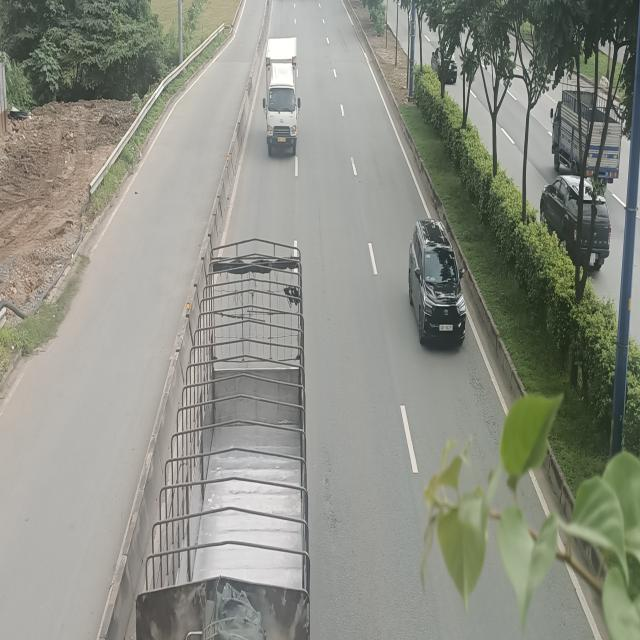car: (409, 219, 466, 344)
truck: (119, 238, 313, 640), (264, 35, 302, 154)
